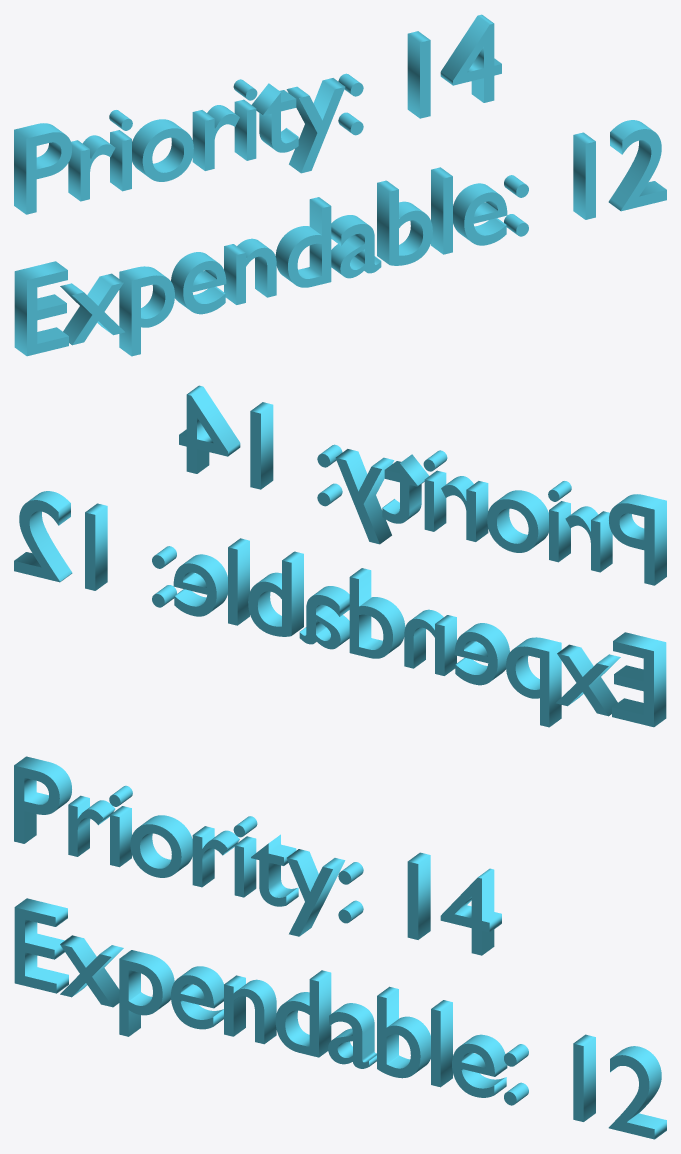
File: console_test_012_result.fbx
3 views of the same model, one above another, from view 1: azimuth 30°, elevation 25°; view 2: azimuth 150°, elevation 25°; view 3: azimuth 330°, elevation 25° (orthographic).
Parts seen in each view (by area): view 1: Txt_Test_01.047, Txt_Test_01.050; view 2: Txt_Test_01.047, Txt_Test_01.050; view 3: Txt_Test_01.047, Txt_Test_01.050.
Part boxes in pixels (x1,y1,x2,y2): Txt_Test_01.047: [14, 120, 666, 356]; Txt_Test_01.050: [14, 14, 501, 214]; Txt_Test_01.047: [14, 491, 666, 727]; Txt_Test_01.050: [179, 385, 666, 585]; Txt_Test_01.047: [14, 898, 666, 1139]; Txt_Test_01.050: [14, 756, 501, 955].
Size of the model in its own units: 0.8102 by 0.2955 by 0.027.
